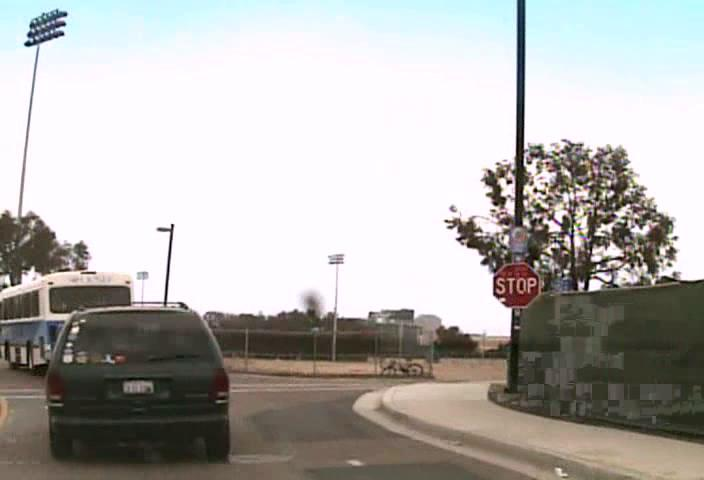stop: (492, 261, 540, 308)
